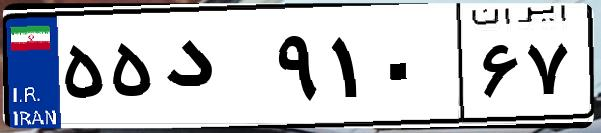0: (385, 28, 445, 110)
1: (330, 28, 385, 110)
5: (57, 26, 110, 100), (110, 28, 158, 98)
6: (475, 38, 525, 113)
7: (525, 38, 570, 115)
9: (270, 28, 330, 110)
د: (158, 20, 270, 120)
